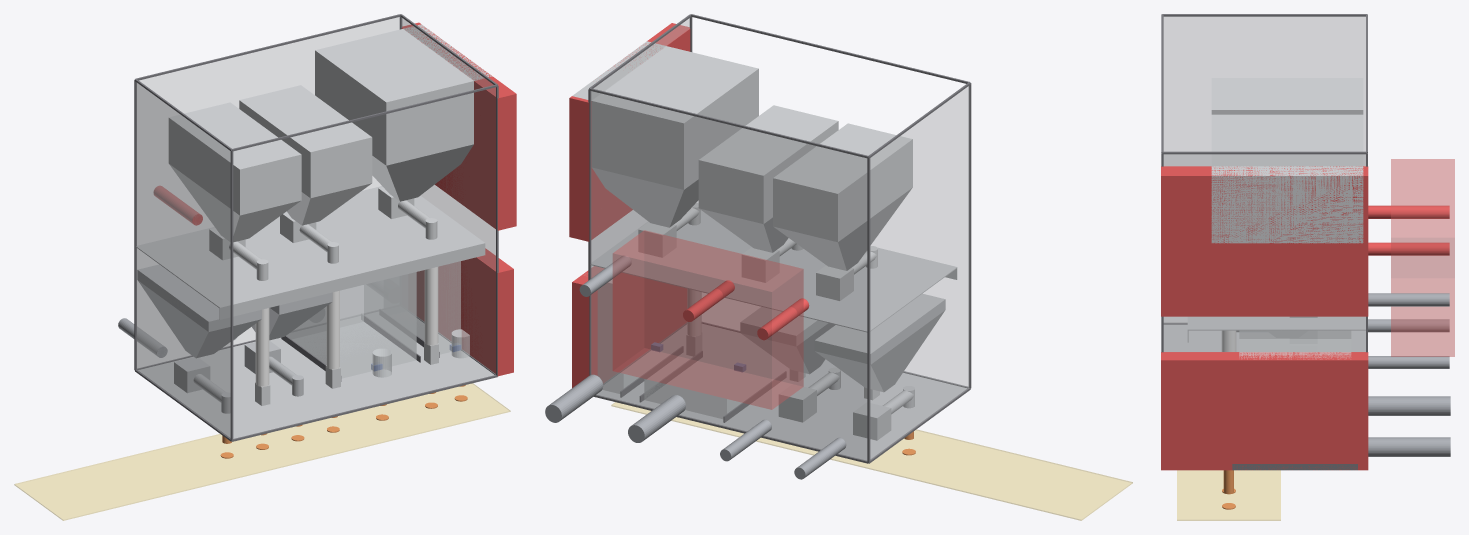
The model's file is uno_deneme_B_v1.glb.
3 renders of one model, left to right at view 1: azimuth 30°, elevation 25°; view 2: azimuth 150°, elevation 25°; view 3: azimuth 270°, elevation 25°, orthographic. The views are drawn at different scales.
Parts seen in each view (by area): view 1: sol_duvar_13, tabla_yolu_18, alt_taban_raf_15, arka_duvar_12, ust_raf_16, harc_BUYUK_kutu_73, sos_KUCUK_kutu_53, sag_duvar_14, yeni_KUCUK_kutu_63, kasar_govde_36, TASMA_83, TASMA_82 (+22 smaller); view 2: arka_duvar_12, sol_duvar_13, evap_kaseti_zarfi_19, harc_BUYUK_kutu_73, alt_taban_raf_15, ust_raf_16, tabla_yolu_18, sos_KUCUK_kutu_53, TASMA_82, yeni_KUCUK_kutu_63, TASMA_83, kiyma_kutu_21 (+27 smaller); view 3: TASMA_83, TASMA_82, harc_BUYUK_kutu_73, sol_duvar_13, evap_kaseti_zarfi_19, sag_duvar_14, sos_KUCUK_kutu_53, tabla_yolu_18, ust_raf_16, sucuk_govde_44, alt_taban_raf_15, kasar_motor_41 (+13 smaller).
Boxes of the visible parts, left/top/right/bottom form: sol_duvar_13: left=136, top=82, right=230, bottom=438; tabla_yolu_18: left=14, top=383, right=510, bottom=520; alt_taban_raf_15: left=138, top=312, right=494, bottom=438; arka_duvar_12: left=137, top=17, right=399, bottom=368; ust_raf_16: left=136, top=186, right=485, bottom=308; harc_BUYUK_kutu_73: left=315, top=24, right=492, bottom=165; sos_KUCUK_kutu_53: left=168, top=102, right=301, bottom=215; sag_duvar_14: left=402, top=18, right=495, bottom=373; yeni_KUCUK_kutu_63: left=239, top=85, right=372, bottom=198; kasar_govde_36: left=286, top=272, right=416, bottom=378; TASMA_83: left=401, top=22, right=516, bottom=230; TASMA_82: left=416, top=248, right=513, bottom=376; arka_duvar_12: left=590, top=91, right=866, bottom=460; sol_duvar_13: left=870, top=85, right=969, bottom=460; evap_kaseti_zarfi_19: left=612, top=230, right=803, bottom=409; harc_BUYUK_kutu_73: left=572, top=41, right=758, bottom=189; alt_taban_raf_15: left=597, top=324, right=966, bottom=460; ust_raf_16: left=590, top=210, right=957, bottom=332; tabla_yolu_18: left=611, top=402, right=1132, bottom=520; sos_KUCUK_kutu_53: left=773, top=123, right=912, bottom=241; TASMA_82: left=572, top=266, right=686, bottom=387; yeni_KUCUK_kutu_63: left=698, top=105, right=838, bottom=223; TASMA_83: left=569, top=23, right=690, bottom=241; kiyma_kutu_21: left=814, top=294, right=945, bottom=364; TASMA_83: left=1161, top=166, right=1368, bottom=316; TASMA_82: left=1161, top=352, right=1368, bottom=470; harc_BUYUK_kutu_73: left=1211, top=120, right=1363, bottom=243; sol_duvar_13: left=1164, top=17, right=1365, bottom=322; evap_kaseti_zarfi_19: left=1391, top=159, right=1454, bottom=356; sag_duvar_14: left=1164, top=154, right=1365, bottom=351; sos_KUCUK_kutu_53: left=1211, top=78, right=1363, bottom=114; tabla_yolu_18: left=1177, top=470, right=1280, bottom=520; ust_raf_16: left=1187, top=316, right=1365, bottom=330; sucuk_govde_44: left=1239, top=339, right=1351, bottom=359; alt_taban_raf_15: left=1163, top=324, right=1365, bottom=351; kasar_motor_41: left=1368, top=396, right=1450, bottom=415.
Size of the model in its own units: 1.59 by 1.15 by 0.853.
